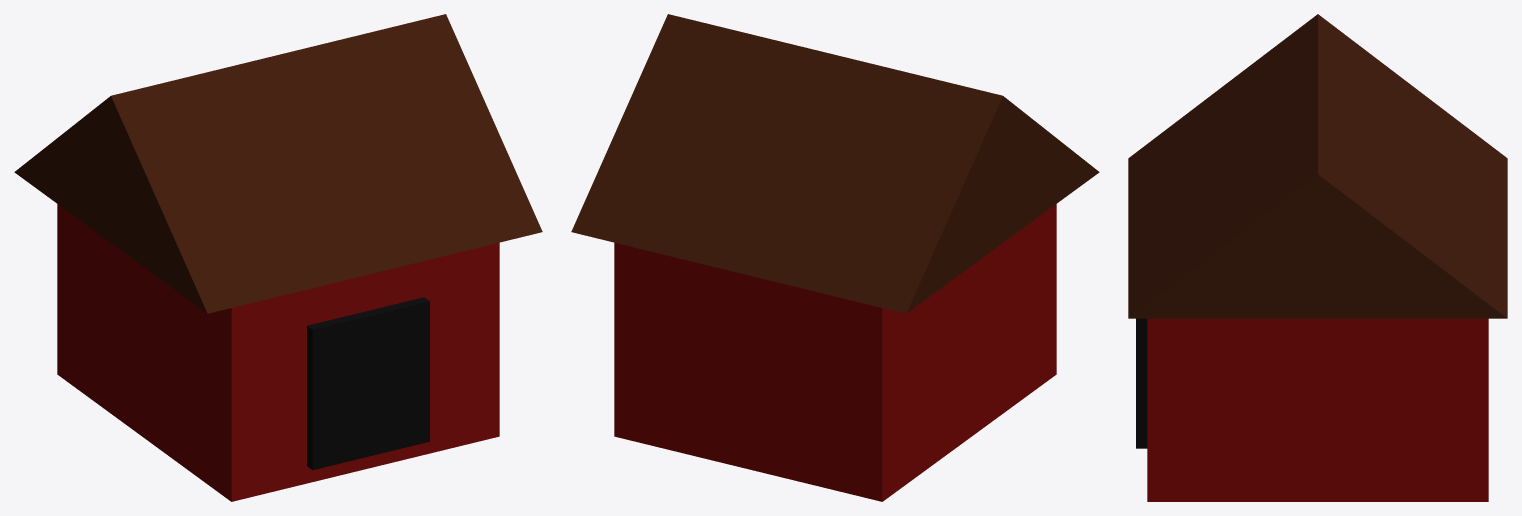
Rendered from dog_house.obj.
3 renders of one model, left to right at view 1: azimuth 30°, elevation 25°; view 2: azimuth 150°, elevation 25°; view 3: azimuth 270°, elevation 25°, orthographic. The views are drawn at different scales.
Visible parts, largest first — view 1: dog_house; view 2: dog_house; view 3: dog_house.
Part boxes in pixels (bbox=[...]): dog_house: bbox=[14, 14, 542, 501]; dog_house: bbox=[571, 14, 1099, 501]; dog_house: bbox=[1128, 14, 1507, 501].
Size of the model in its own units: 1 by 1 by 1.
